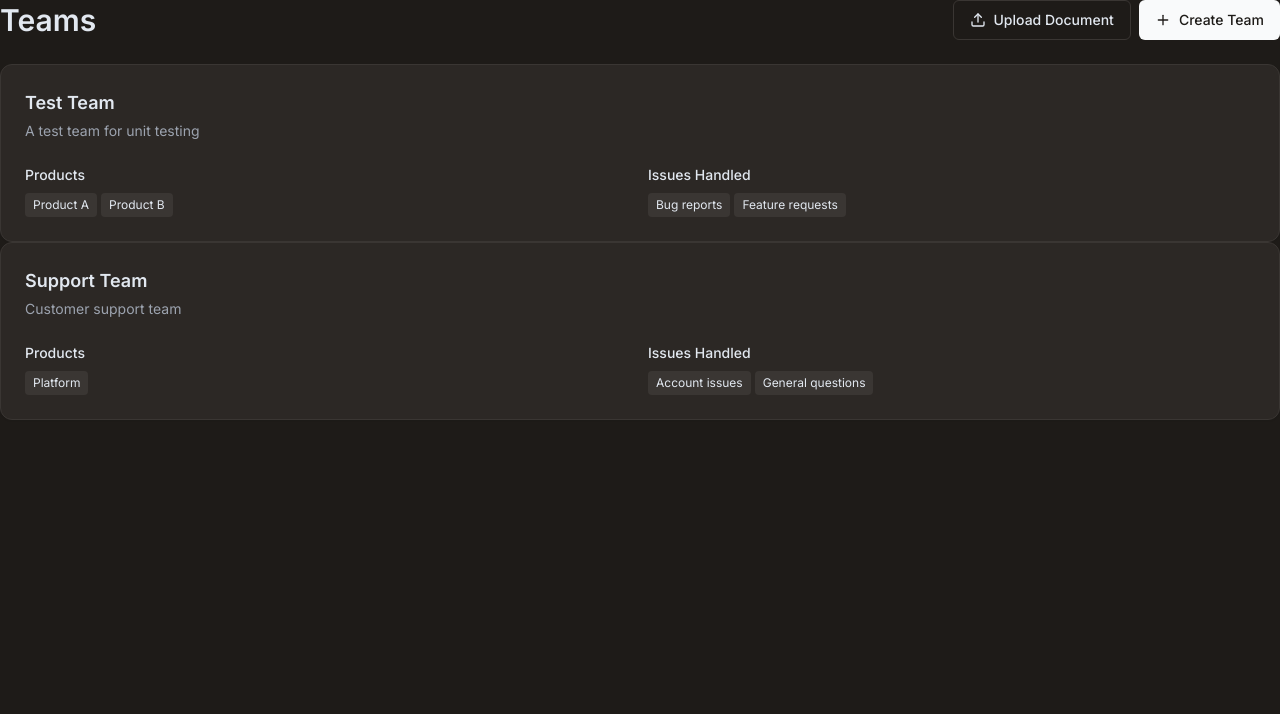
Test case: TeamList Component › should open create team form when Create Team button is clicked
Click the button "Create Team": (1209, 20) [1139,0,1279,40]
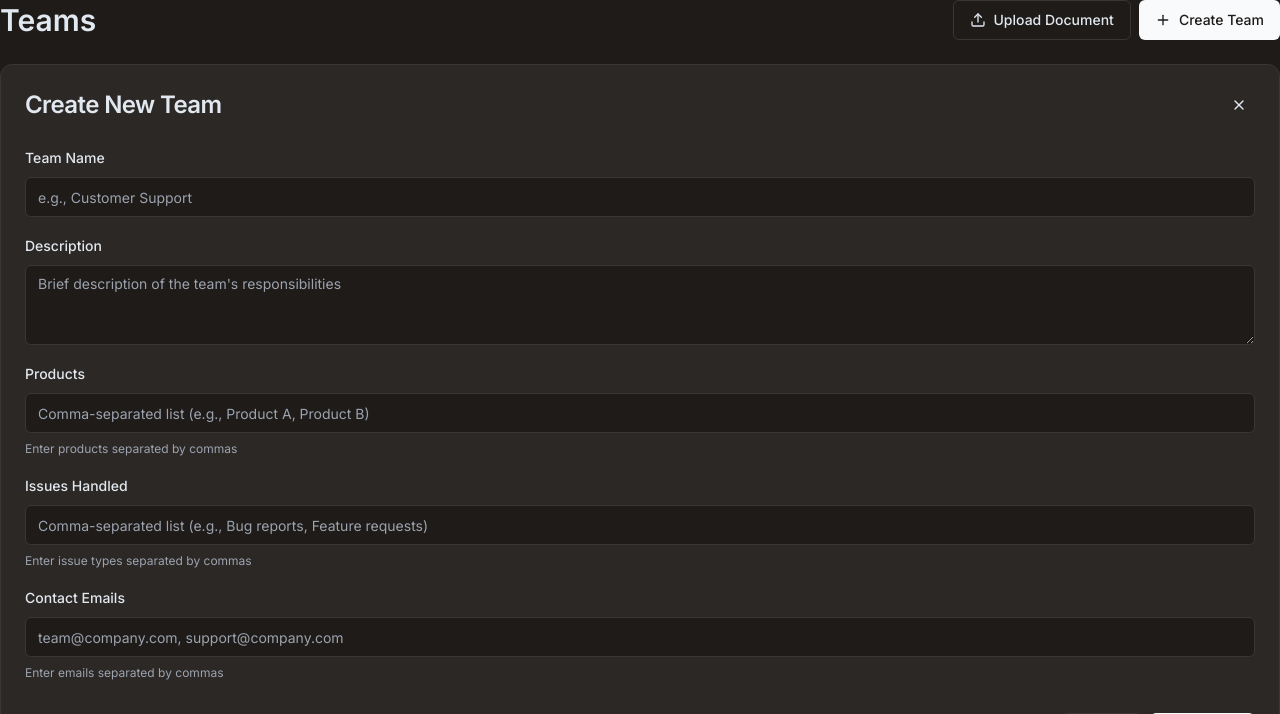
Check: the heading "Create New Team" is shown, box [25,93,221,117]
